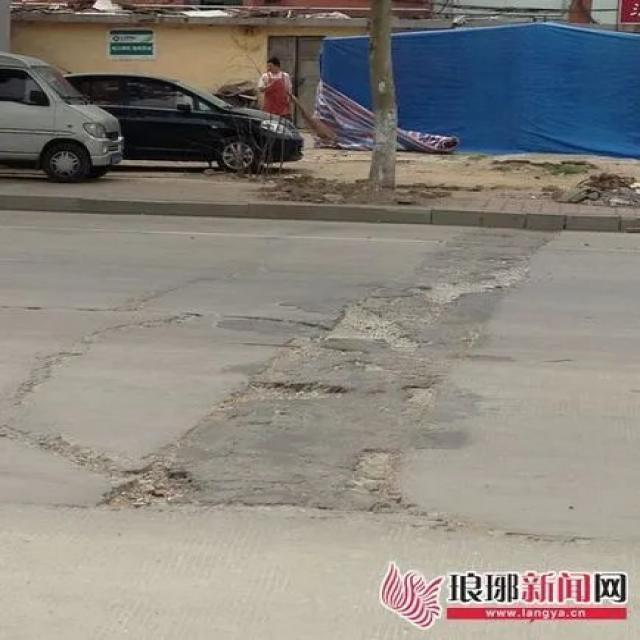Pothole: (318, 295, 424, 358), (102, 459, 199, 513), (227, 380, 344, 407)
